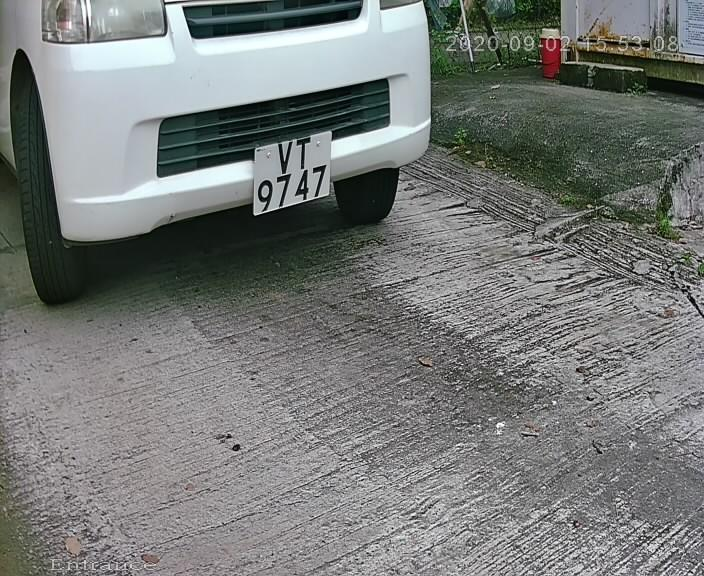Car: (13, 8, 453, 291)
License Plate: (239, 129, 340, 224)
